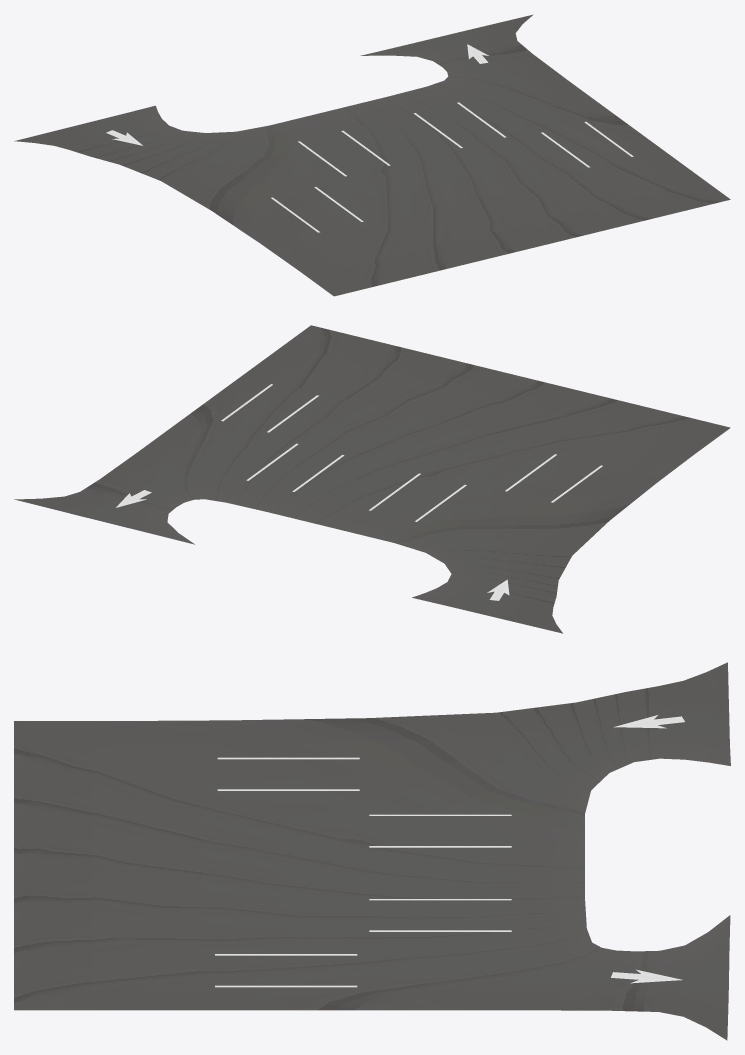
File: ParkingRoad.fbx
3 renders of one model, top to bottom at view 1: azimuth 30°, elevation 25°; view 2: azimuth 150°, elevation 25°; view 3: azimuth 270°, elevation 25°, orthographic. The views are drawn at different scales.
Visible parts, largest first — view 1: SM_Diner_ParkingLot_01.mo; view 2: SM_Diner_ParkingLot_01.mo; view 3: SM_Diner_ParkingLot_01.mo.
Part boxes in pixels (x1,y1,x2,y2): SM_Diner_ParkingLot_01.mo: [14, 14, 730, 296]; SM_Diner_ParkingLot_01.mo: [14, 325, 730, 633]; SM_Diner_ParkingLot_01.mo: [14, 662, 730, 1040].
Bounding box in the file's own units: 3304 × 6.06 × 2645.
